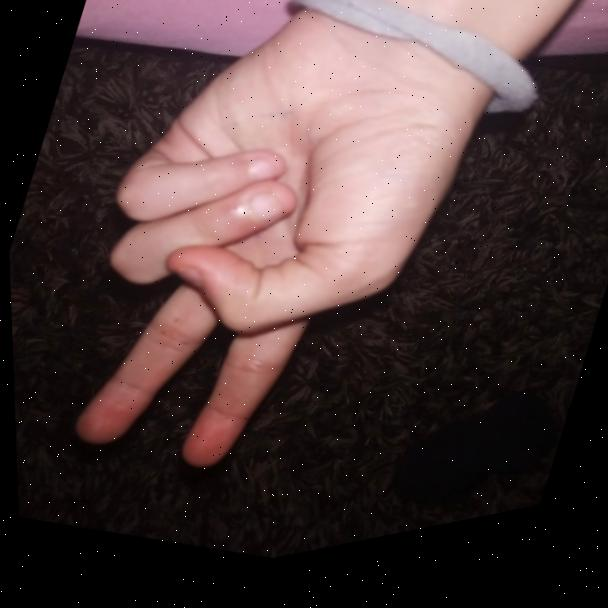two: (21, 0, 456, 545)
